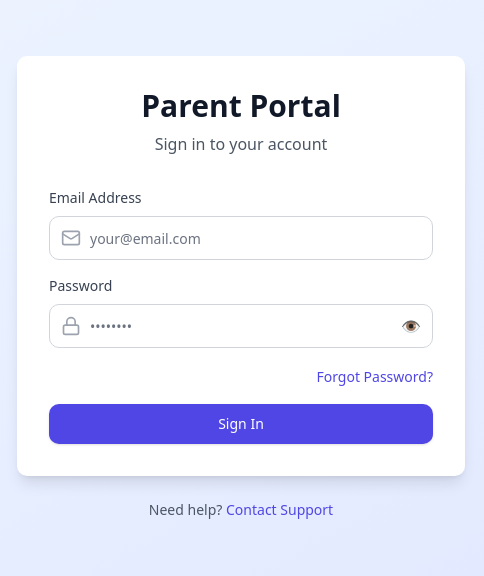
Test: Parent Authentication Integration › Complete Login Flow › should handle login failure gracefully
In the field labelled "Email Address": point(241, 238) 49,216 -> 433,260, type "wrong@example.com"
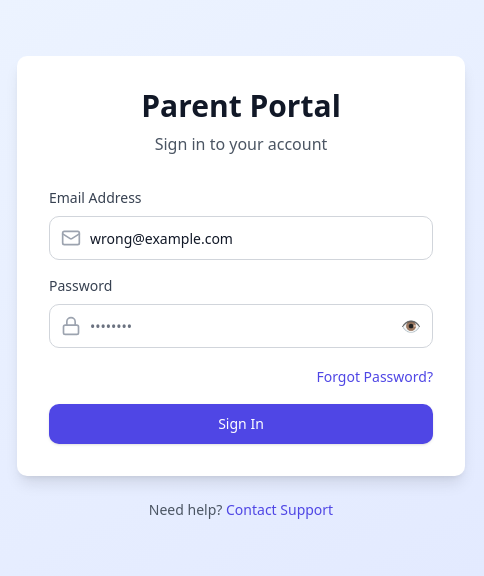
In the password field labelled "Password": point(241, 326) 49,304 -> 433,348, type "wrongpassword"
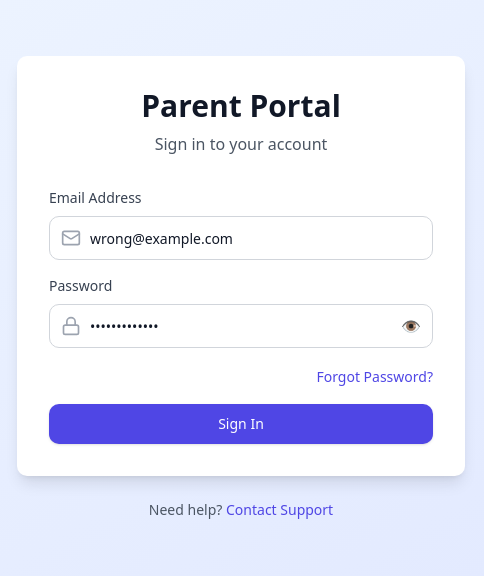
Click the button "Sign In": point(241, 424) 49,404 -> 433,444
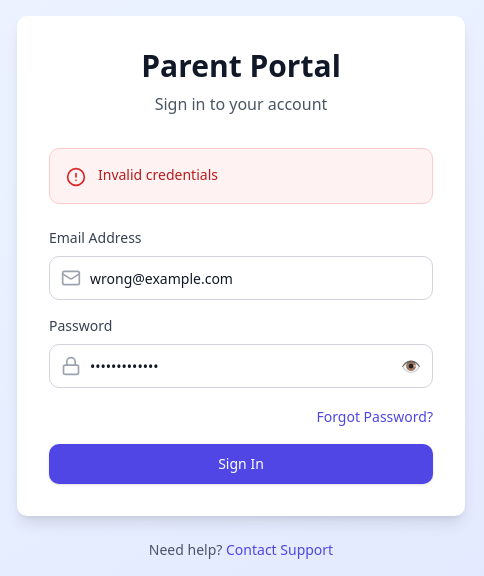
Result: the text "Invalid credentials" is shown at 98,165 -> 218,187
